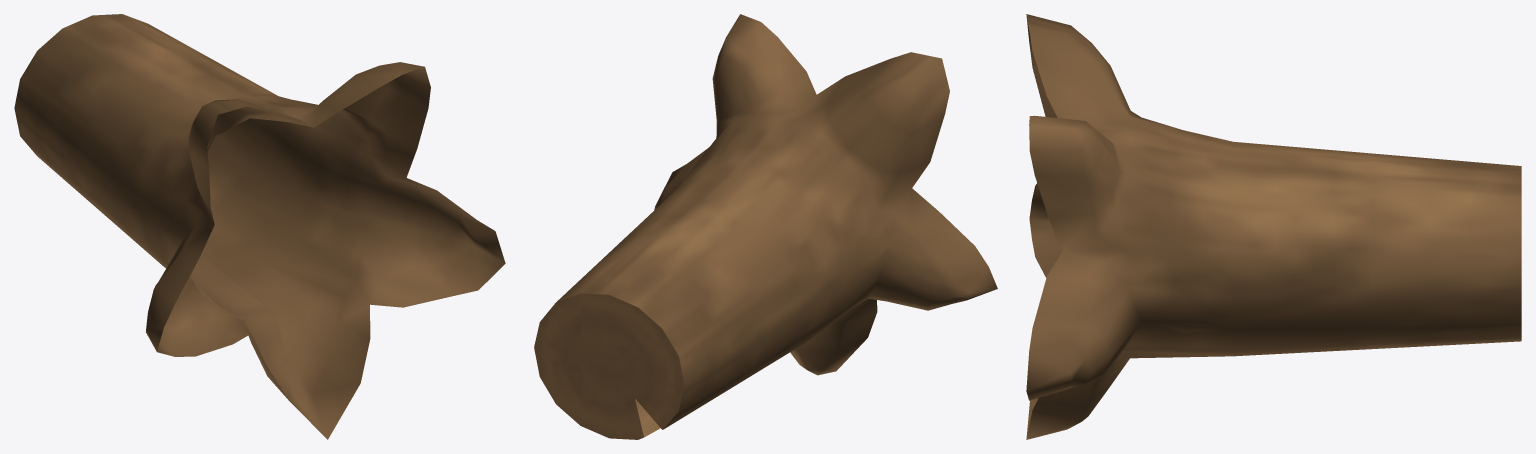
The model's file is stump.glb.
3 views of the same model, side by side, from view 1: azimuth 30°, elevation 25°; view 2: azimuth 150°, elevation 25°; view 3: azimuth 270°, elevation 25° (orthographic). The views are drawn at different scales.
Parts seen in each view (by area): view 1: PltTreeOak__PltTreeOak1Stump_node1; view 2: PltTreeOak__PltTreeOak1Stump_node1; view 3: PltTreeOak__PltTreeOak1Stump_node1.
Part boxes in pixels (x1,y1,x2,y2): PltTreeOak__PltTreeOak1Stump_node1: (14, 14, 505, 439); PltTreeOak__PltTreeOak1Stump_node1: (534, 14, 997, 439); PltTreeOak__PltTreeOak1Stump_node1: (1026, 14, 1521, 439).
Size of the model in its own units: 0.374 by 0.3623 by 0.4398.
Materials: 1 (1 with a texture image).
